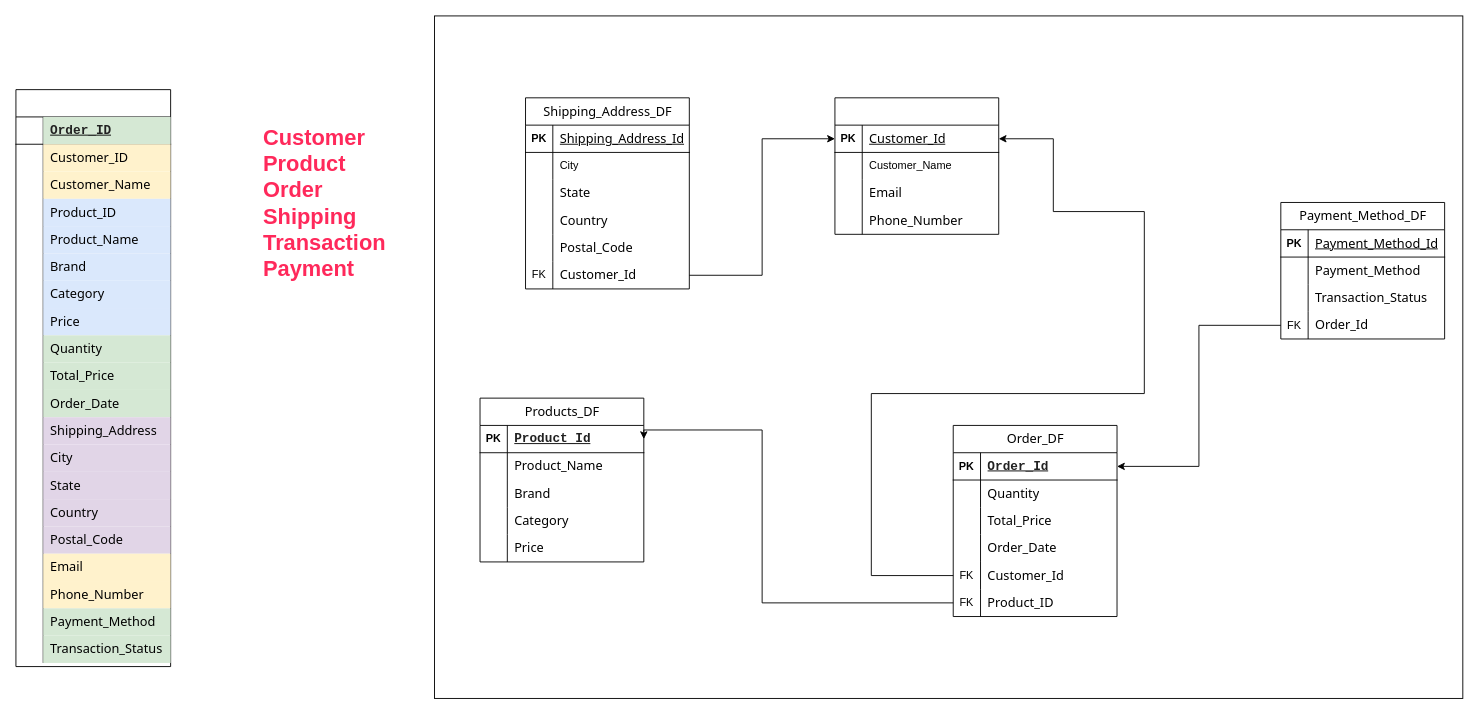
This 1479x714 diagram has some shape labels left out. Each missing label, with the box of its shape:
Customer_DF: (834, 97, 999, 234)
Yanki_DF: (15, 89, 171, 667)
